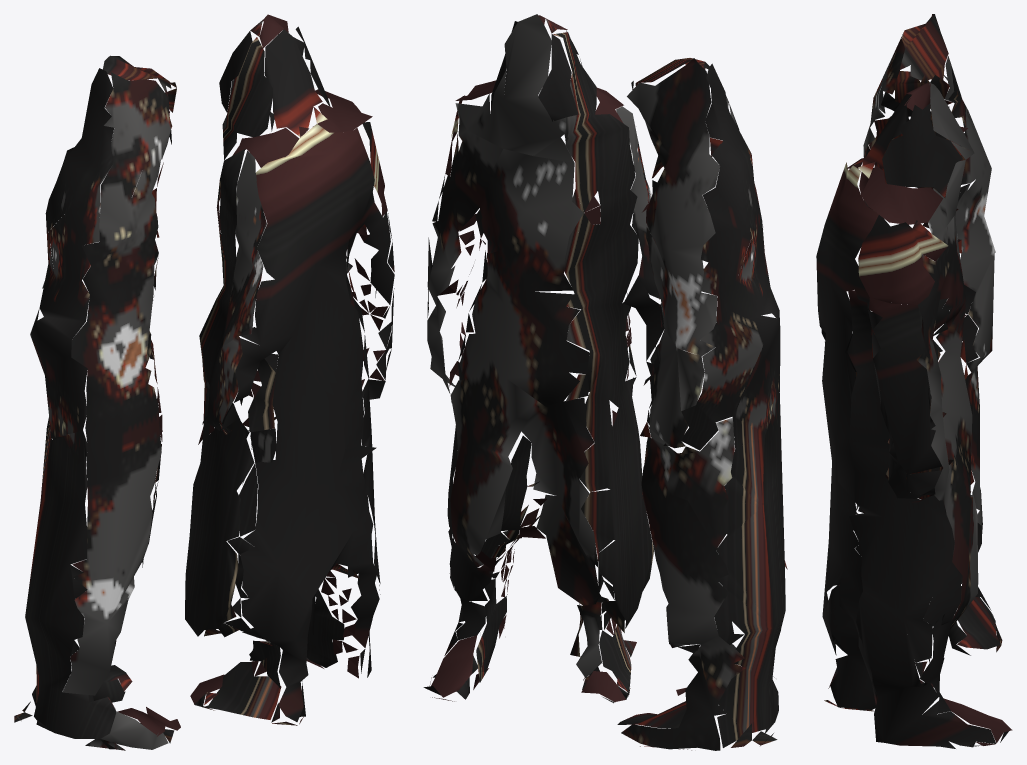
3 renders of one model, left to right at view 1: azimuth 30°, elevation 25°; view 2: azimuth 150°, elevation 25°; view 3: azimuth 270°, elevation 25°, orthographic. The views are drawn at different scales.
Visible parts, largest first — view 1: body.002; view 2: body.002; view 3: body.002.
Boxes of the visible parts, bbox=[...] form: body.002: bbox=[14, 14, 394, 750]; body.002: bbox=[423, 14, 787, 750]; body.002: bbox=[816, 14, 1012, 748].
Bounding box in the file's own units: 1.12 × 2 × 0.5594.
Materials: 1 (1 with a texture image).
